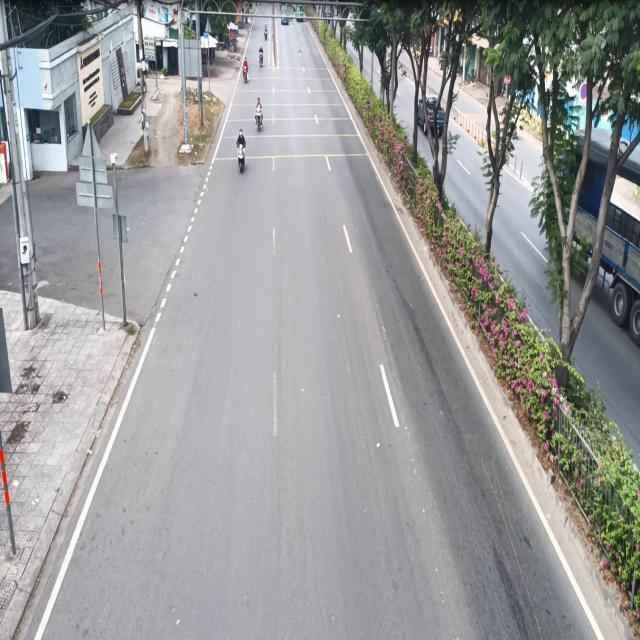motorbike: (232, 124, 248, 171), (252, 96, 268, 131), (241, 55, 250, 84)
